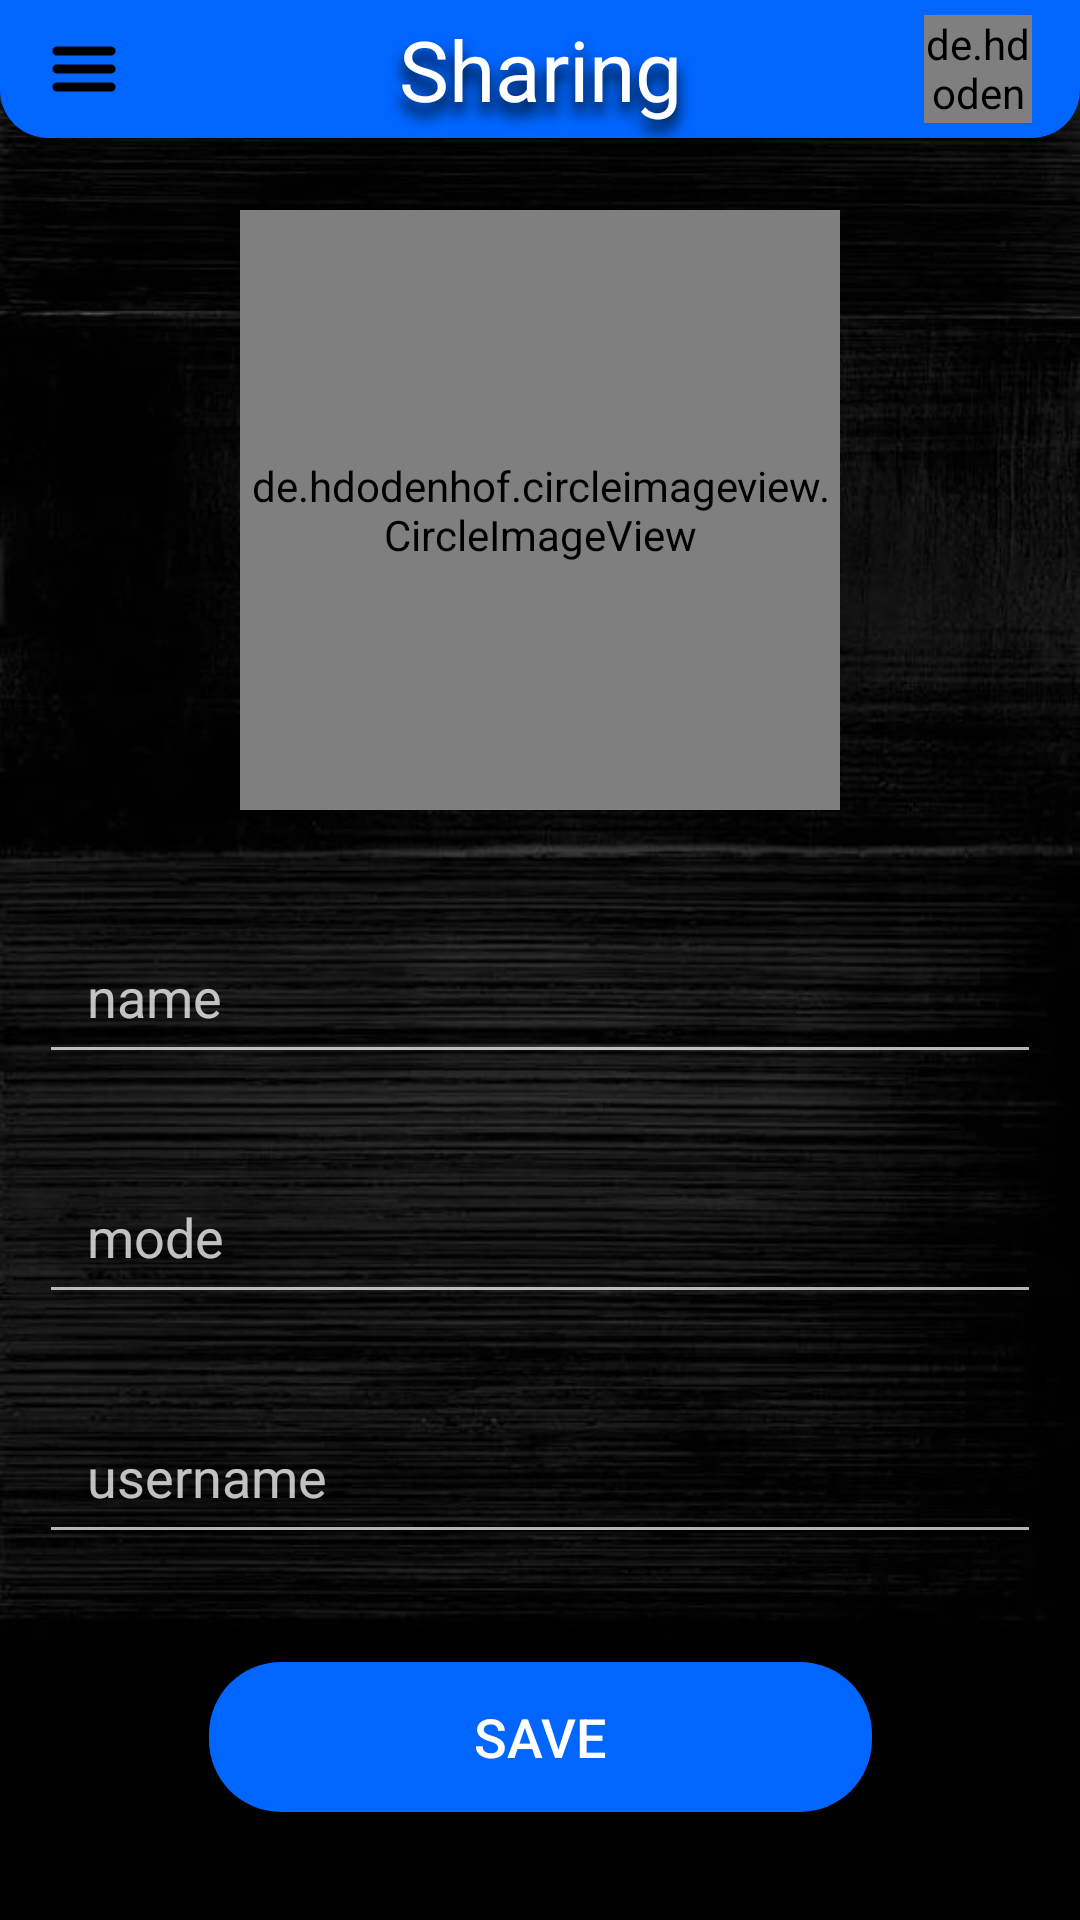

Named icons in this screenshot (1080*1920) and their bounding boxes, (x1, y1, x2, y2):
Menu: (52, 46, 116, 92)
